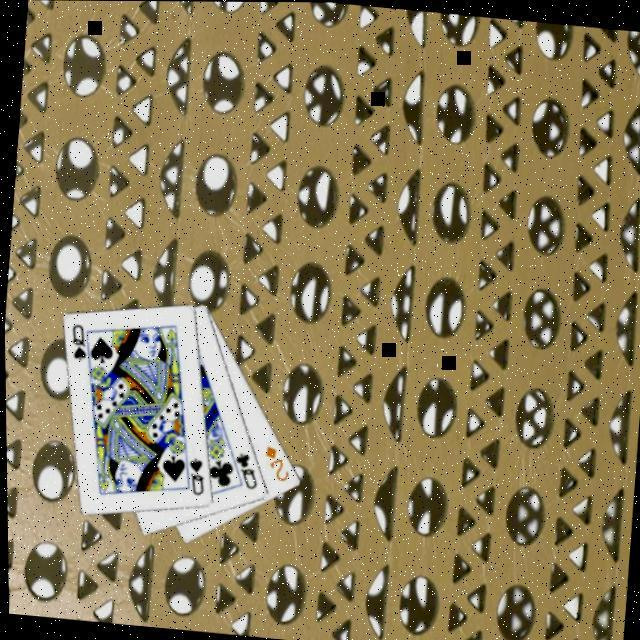2D: (257, 443, 290, 485)
QC: (226, 451, 260, 494)
QS: (180, 455, 207, 500), (63, 322, 89, 365)
